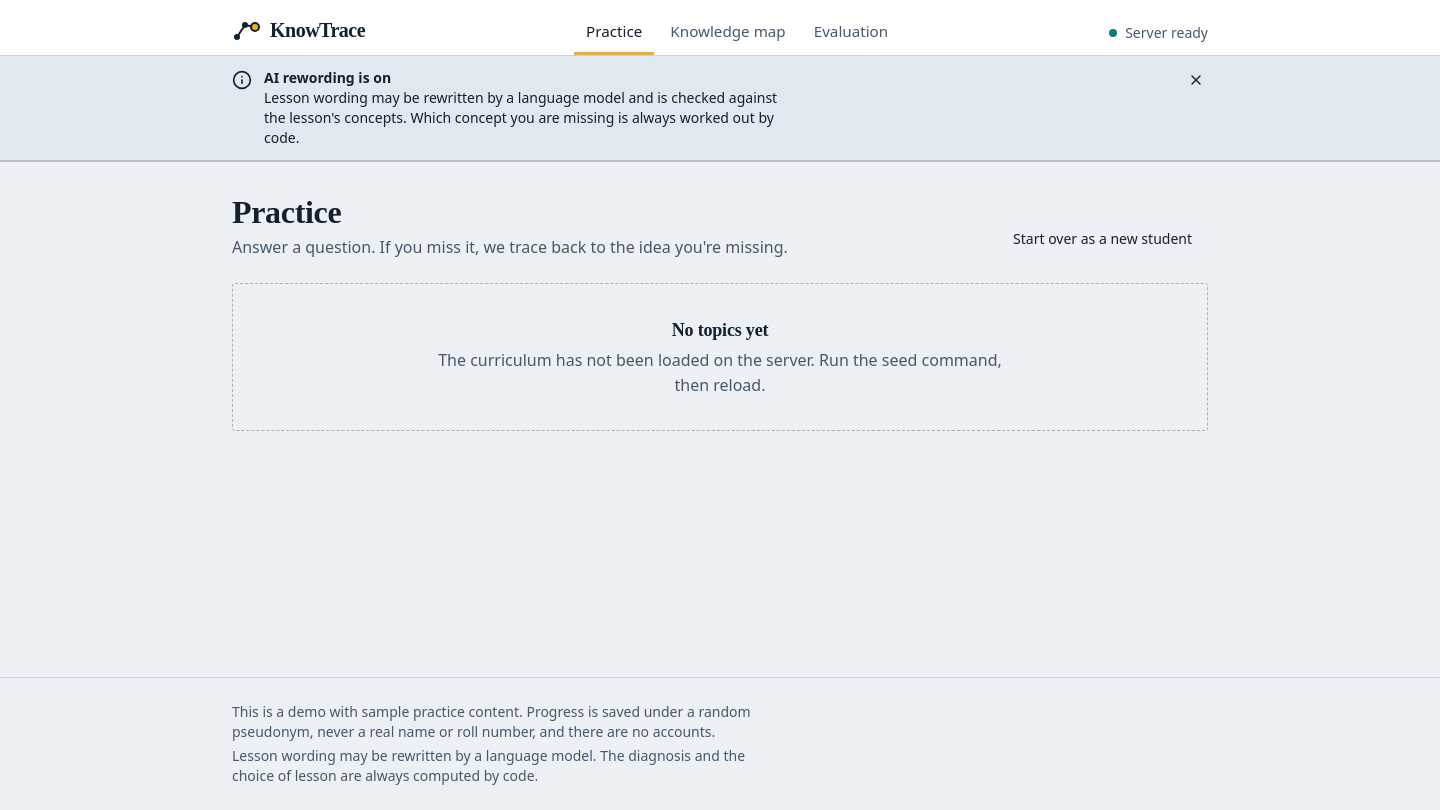
Test case: status banners › tells learners when the optional model is on, and lets them dismiss that note only
Expected: the text "AI rewording is on" is shown, 264,68 -> 391,87
Expected: the text "Lesson wording may be rewritten by a language model. The diagnosis" is shown, 232,746 -> 745,785
Click the button named "Dismiss". click: (1196, 80)
box: 1180,64 -> 1212,96
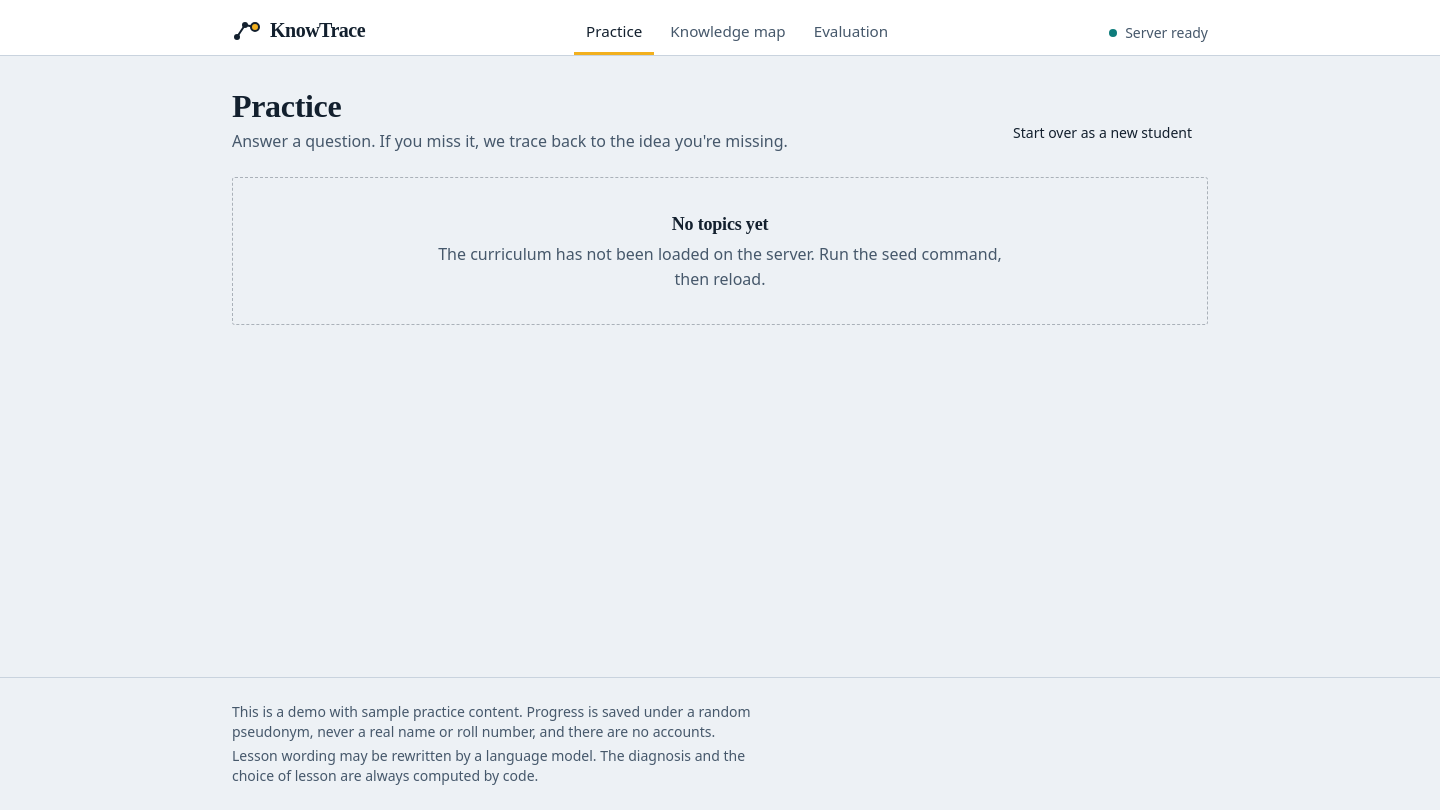
Now the text "AI rewording is on" is gone
